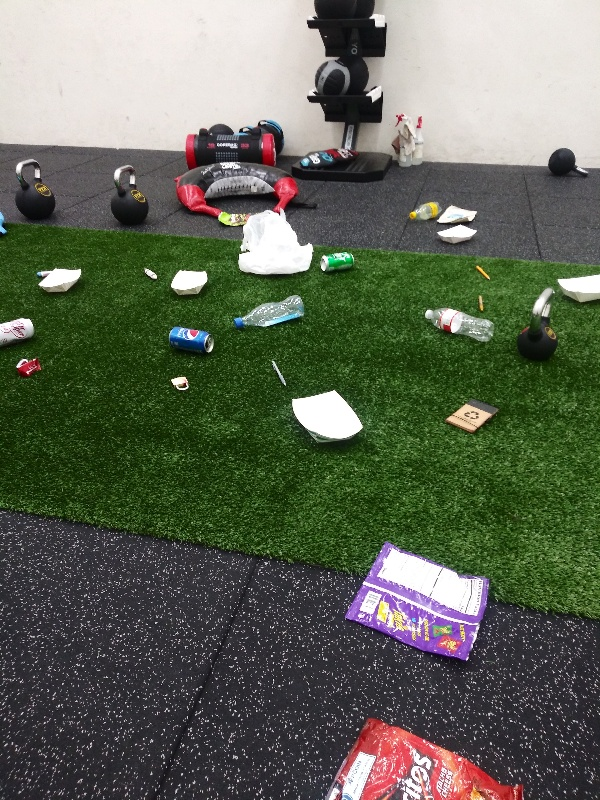bag: (341, 540, 494, 664), (309, 716, 530, 800), (434, 201, 485, 225), (215, 209, 251, 230)
bottle: (420, 303, 496, 345), (230, 293, 309, 330), (404, 197, 443, 222)
can: (163, 319, 215, 359), (1, 312, 37, 353), (319, 248, 357, 274)
plate: (289, 387, 367, 449), (553, 267, 600, 308), (36, 266, 84, 296), (168, 267, 210, 298), (436, 222, 479, 247)
